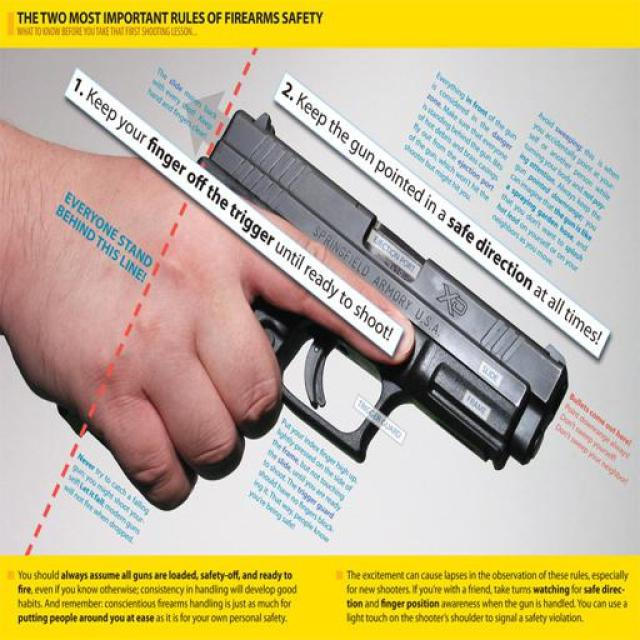pistol: (192, 99, 570, 498)
